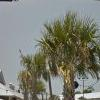Tree: (25, 8, 100, 85)
